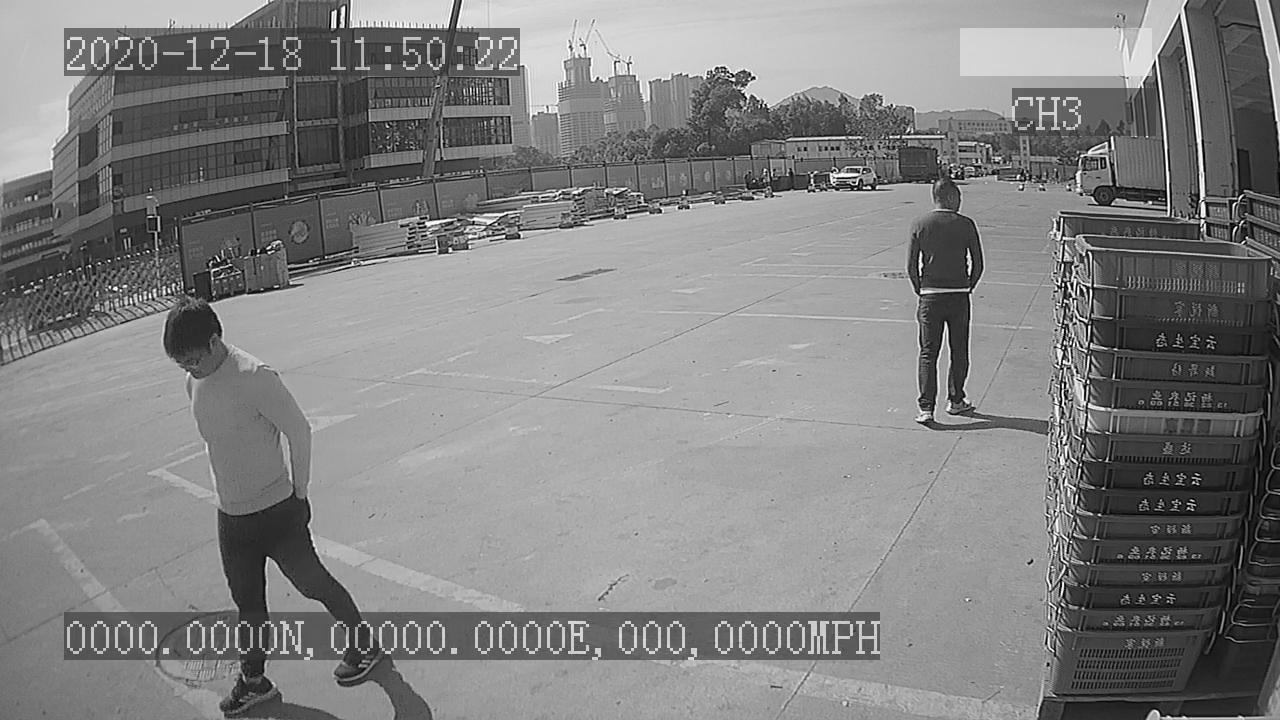person: (899, 172, 990, 429)
